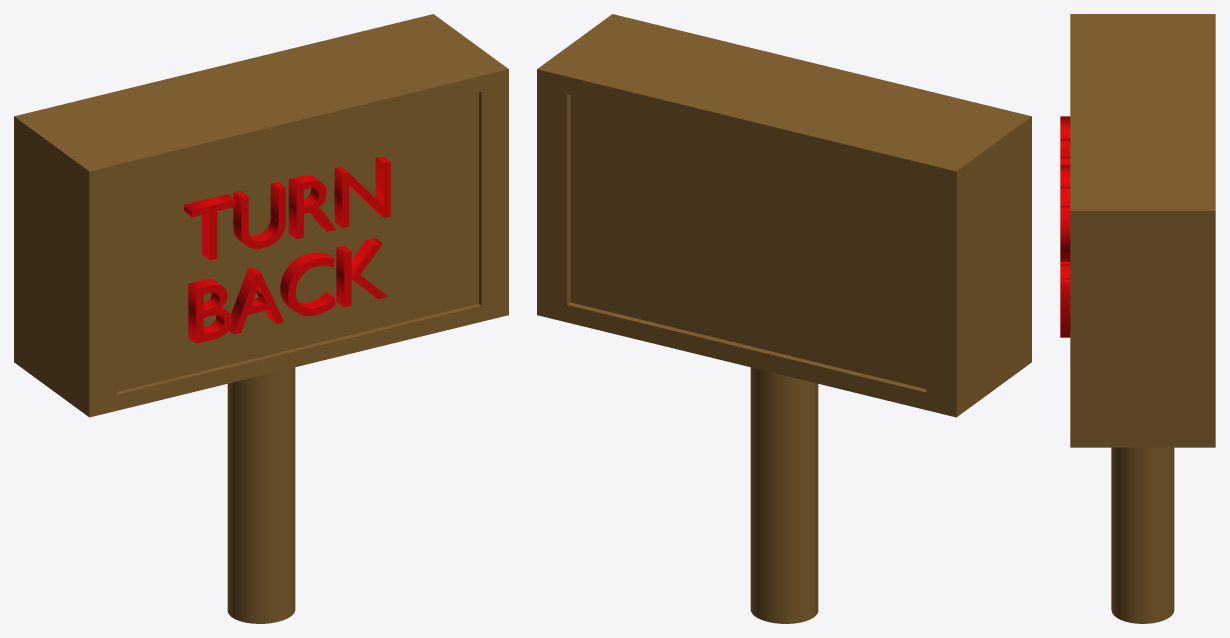
Rendered from TurnBackSign.fbx.
3 views of the same model, side by side, from view 1: azimuth 30°, elevation 25°; view 2: azimuth 150°, elevation 25°; view 3: azimuth 270°, elevation 25° (orthographic). The views are drawn at different scales.
Parts seen in each view (by area): view 1: Cube, Cylinder, Text; view 2: Cube, Cylinder; view 3: Cube, Cylinder, Text.
Boxes of the visible parts, x1,y1,x2,y2 form: Cube: (14,14,508,417); Cylinder: (227,367,295,623); Text: (184,156,390,343); Cube: (537,14,1031,417); Cylinder: (750,367,818,623); Cube: (1070,14,1215,447); Cylinder: (1111,447,1174,623); Text: (1060,116,1070,337).
Size of the model in its own units: 320 by 378 by 107.
